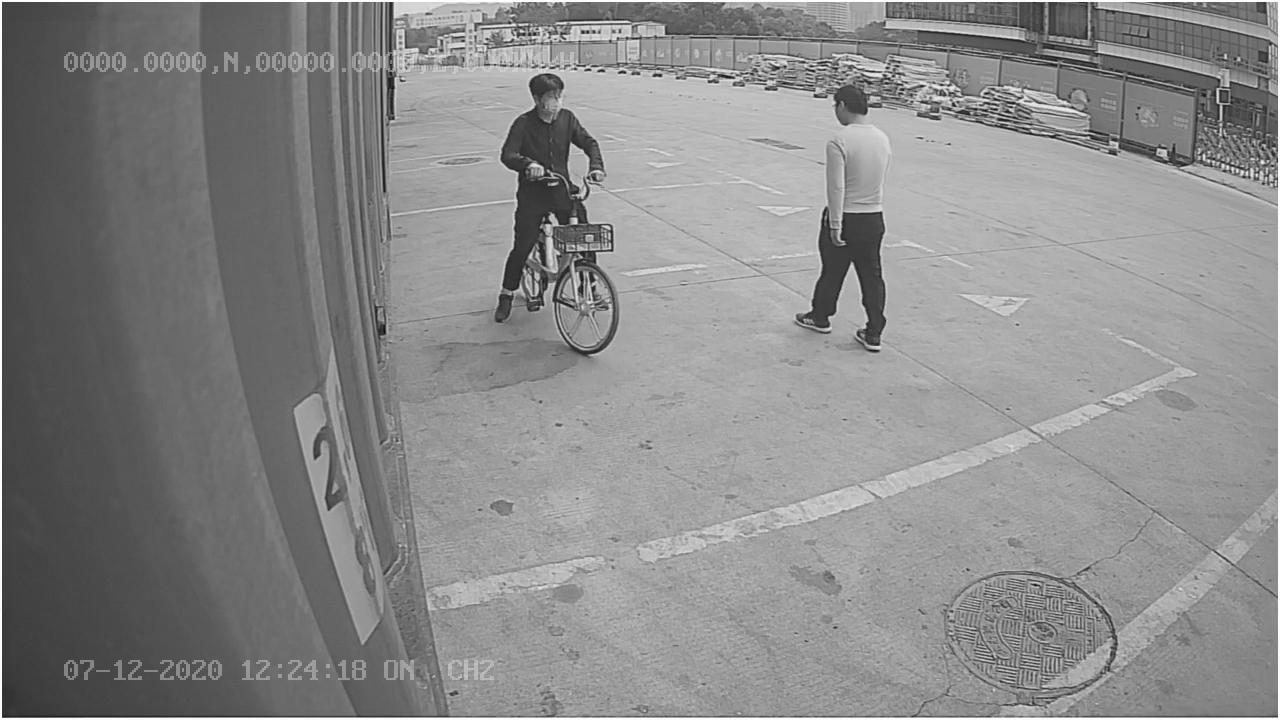person: (788, 82, 896, 356)
